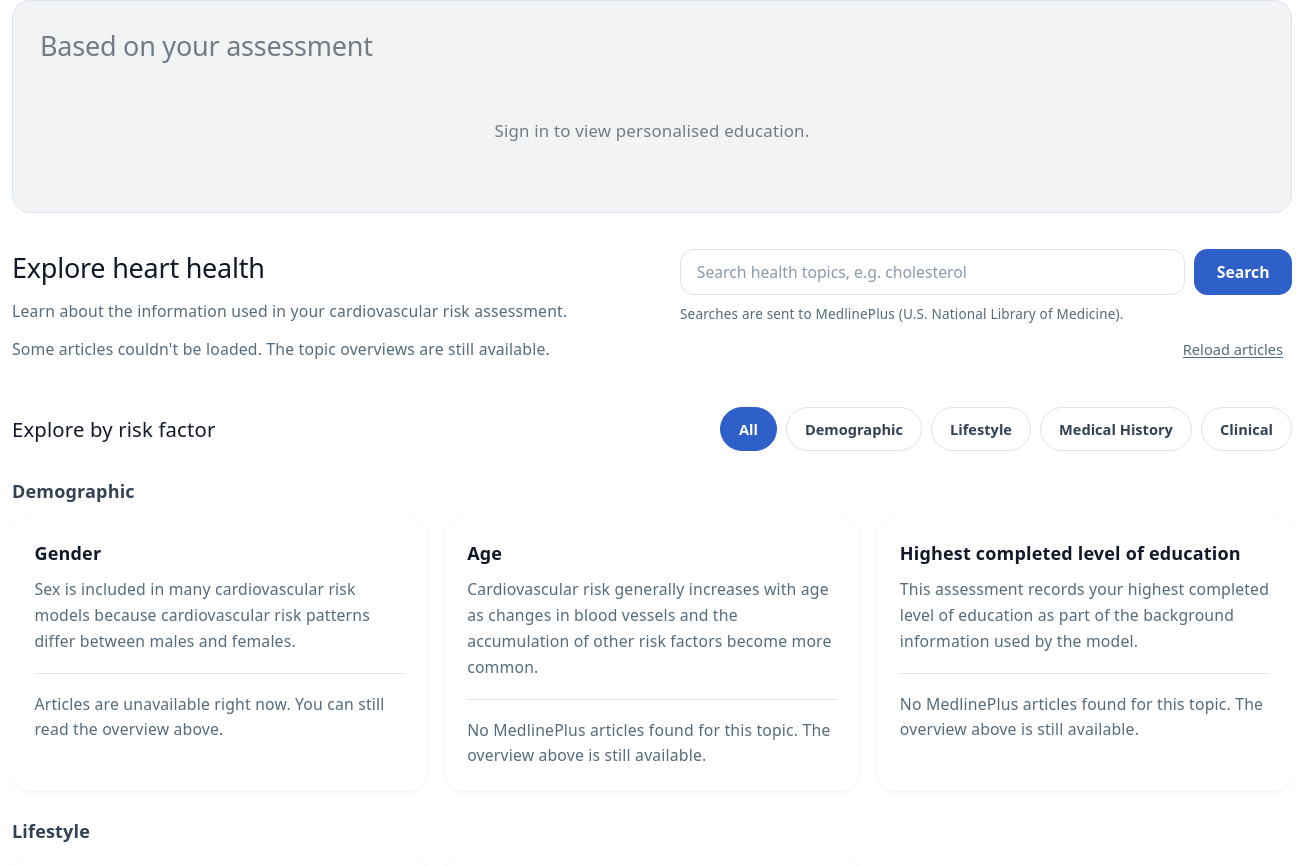
Scenario: distinguishes empty results from failures, keeps the overview, and can reload
The image size is (1304, 866).
Expected: the text "Articles are unavailable right now" is shown, [34,693,384,740]
Expected: the text "Sex is included in many cardiovascular risk models because cardiovascular risk patterns differ between males and females" is shown, [34,578,370,652]
Click the button "Reload articles". click: point(1233, 350)
box: [1174,328,1292,372]
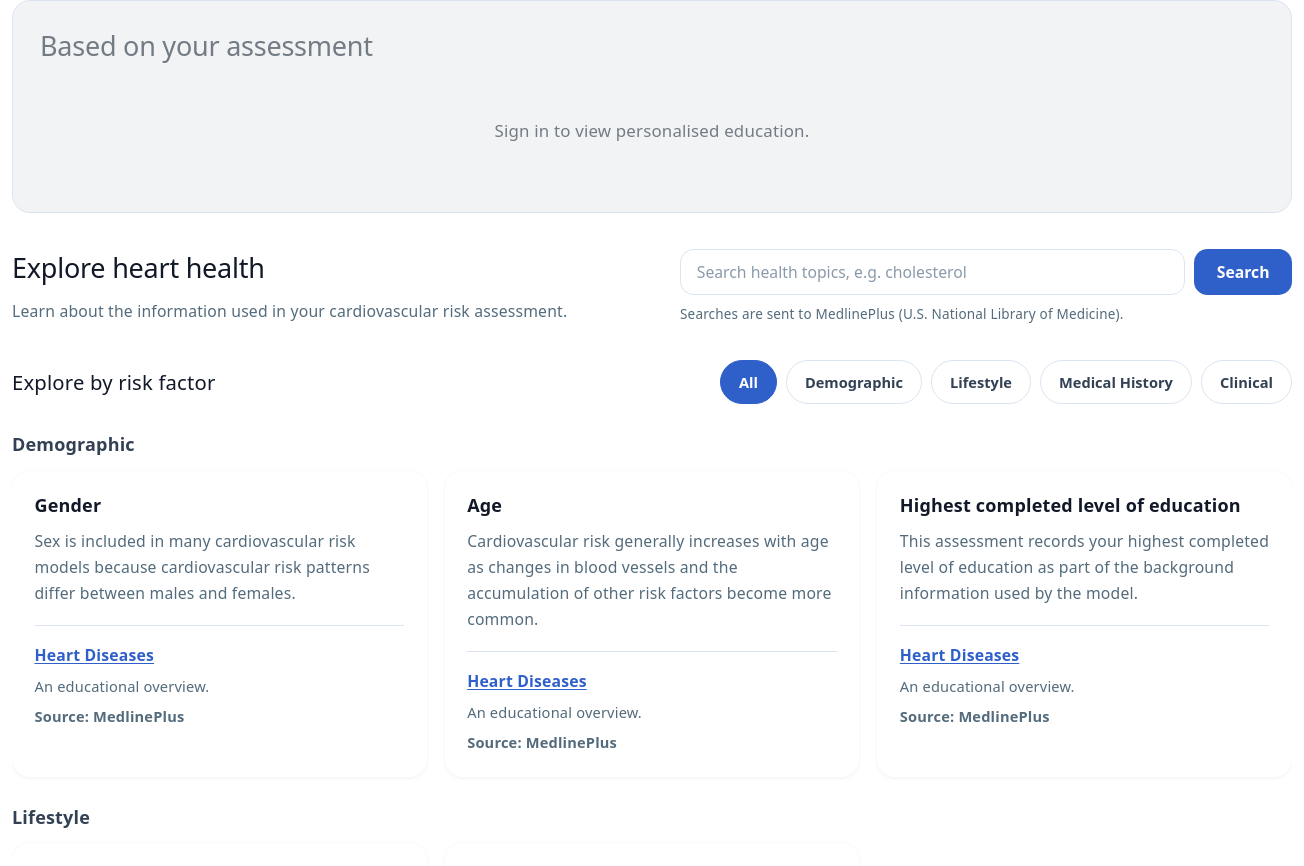
Expected: the number of links "Heart Diseases" is 15
Expected: the button "Reload articles" is gone
Expected: the text "Articles are unavailable right now" is gone
